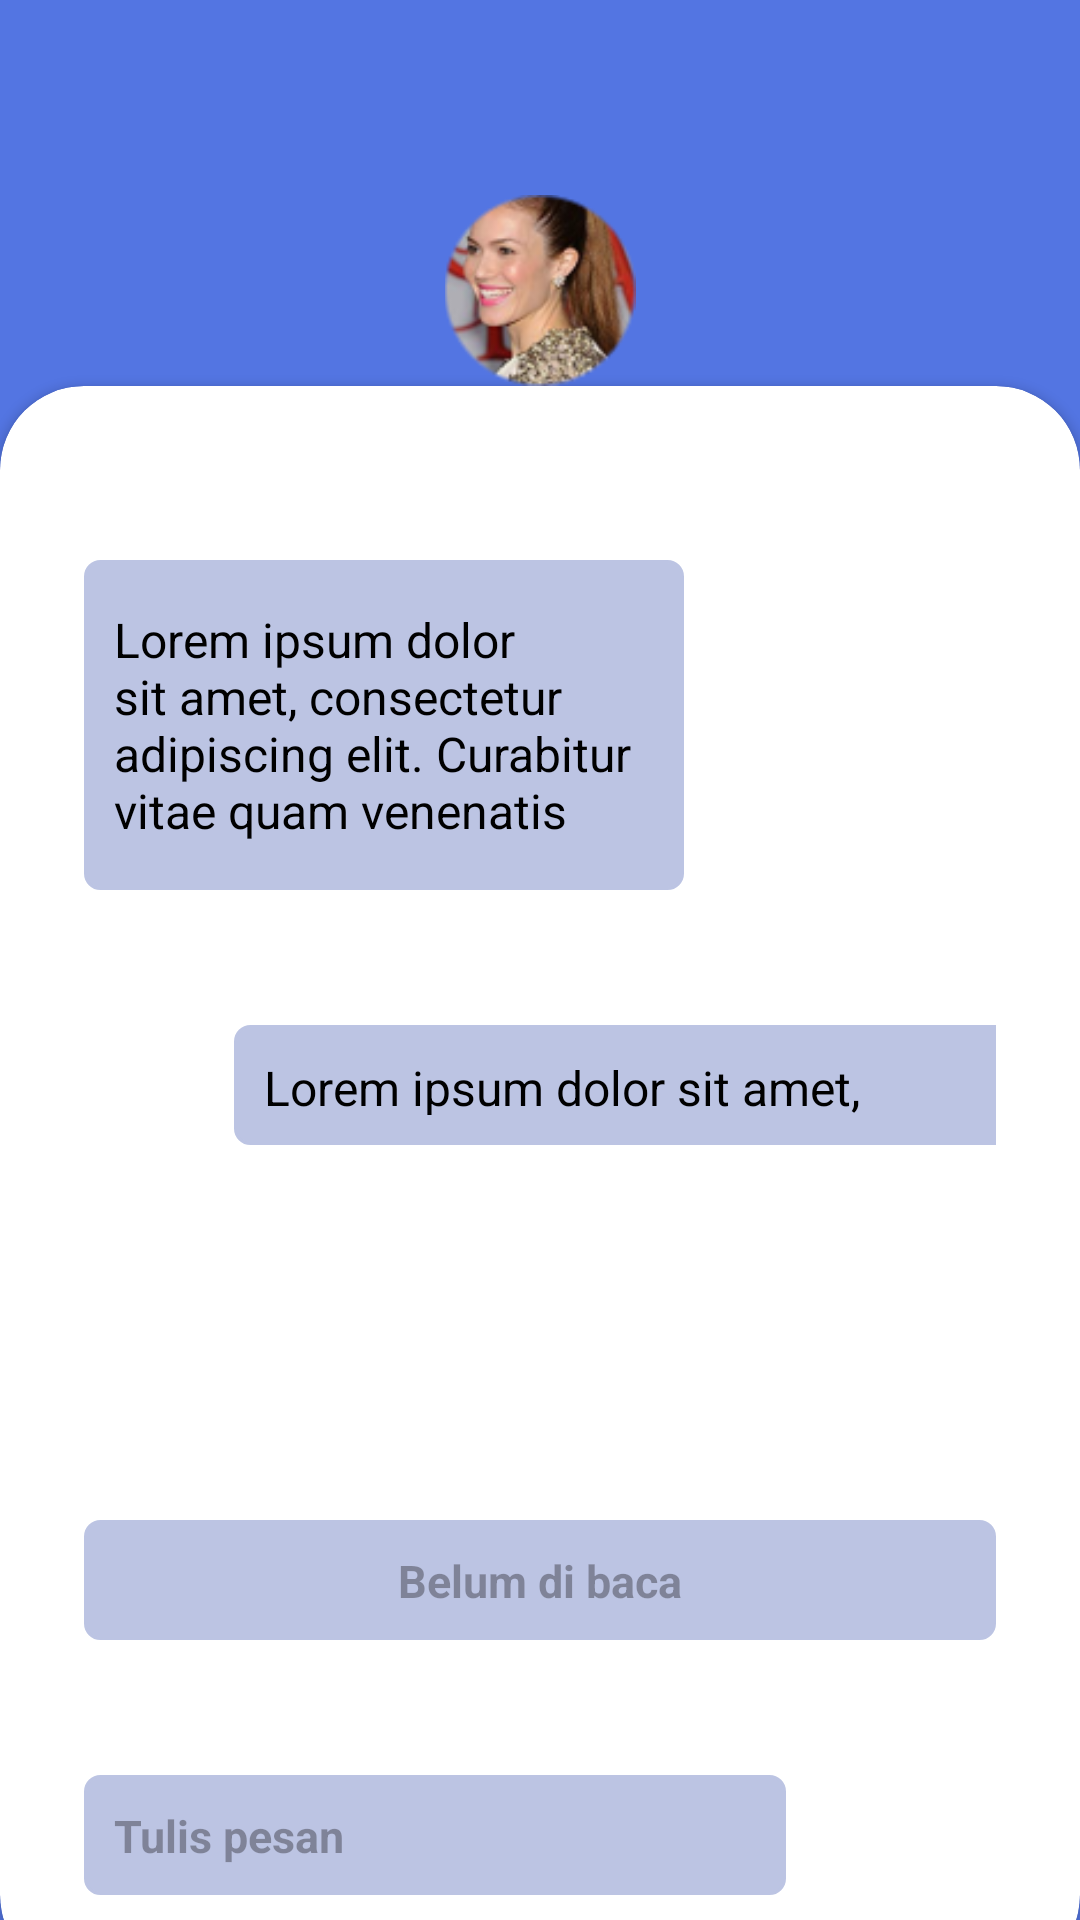

Icons on this 1080px x 1920px Android screen, each with the point to tap as point (x, y):
foto profil: point (540, 290)
